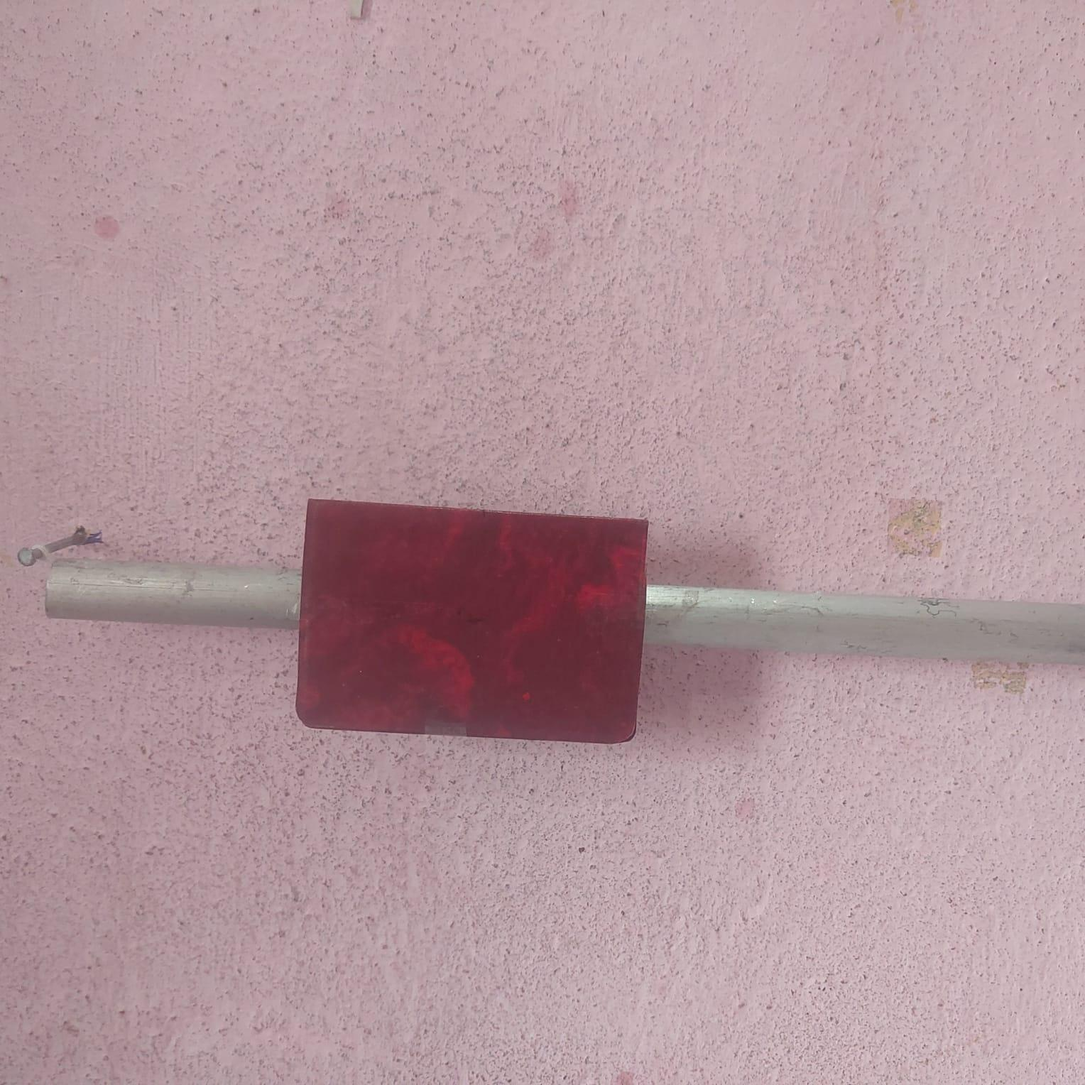wallet: (288, 497, 656, 742)
